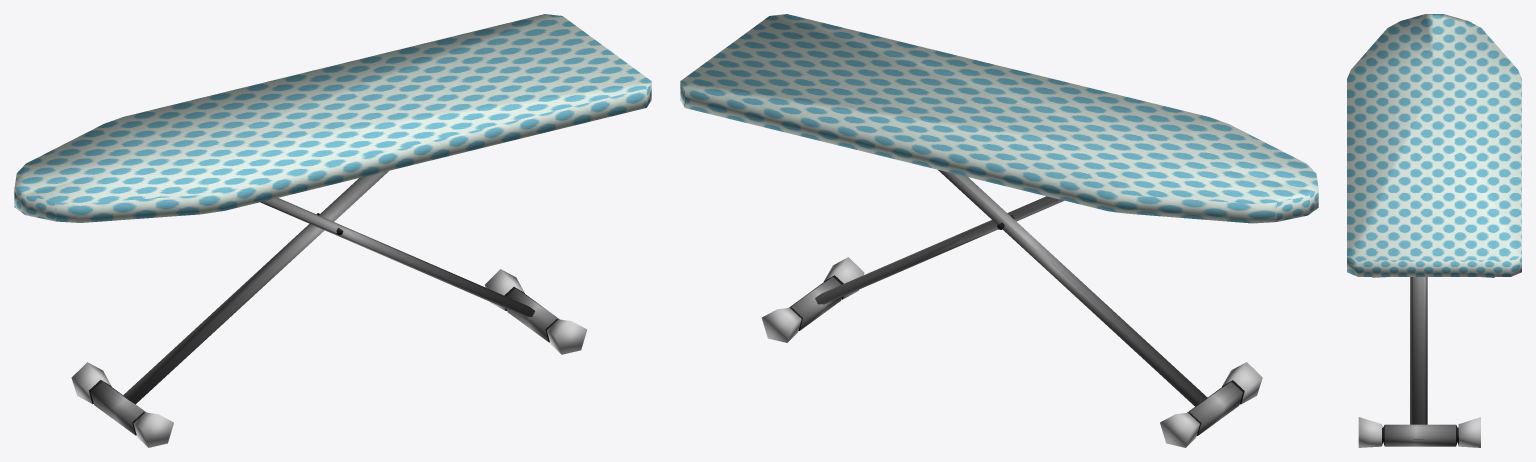
The model's file is Ironing_Board_E.FBX.
3 renders of one model, left to right at view 1: azimuth 30°, elevation 25°; view 2: azimuth 150°, elevation 25°; view 3: azimuth 270°, elevation 25°, orthographic. The views are drawn at different scales.
Parts seen in each view (by area): view 1: Ironing_Board; view 2: Ironing_Board; view 3: Ironing_Board.
Part boxes in pixels (box(x1,y1,x2,y2)): Ironing_Board: box(14, 14, 651, 447); Ironing_Board: box(680, 14, 1318, 447); Ironing_Board: box(1347, 14, 1521, 447).
Size of the model in its own units: 317 by 130 by 95.
